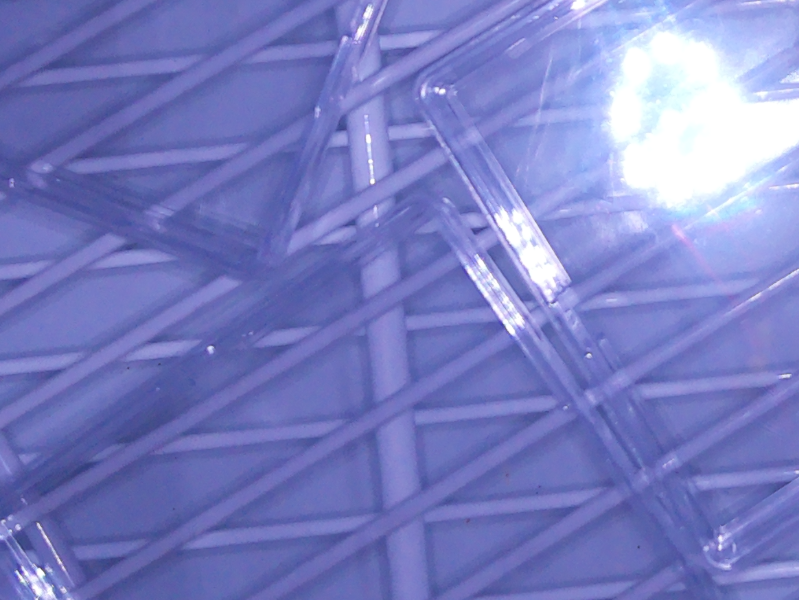plate: (4, 190, 709, 600), (413, 1, 799, 570), (1, 1, 386, 277)
